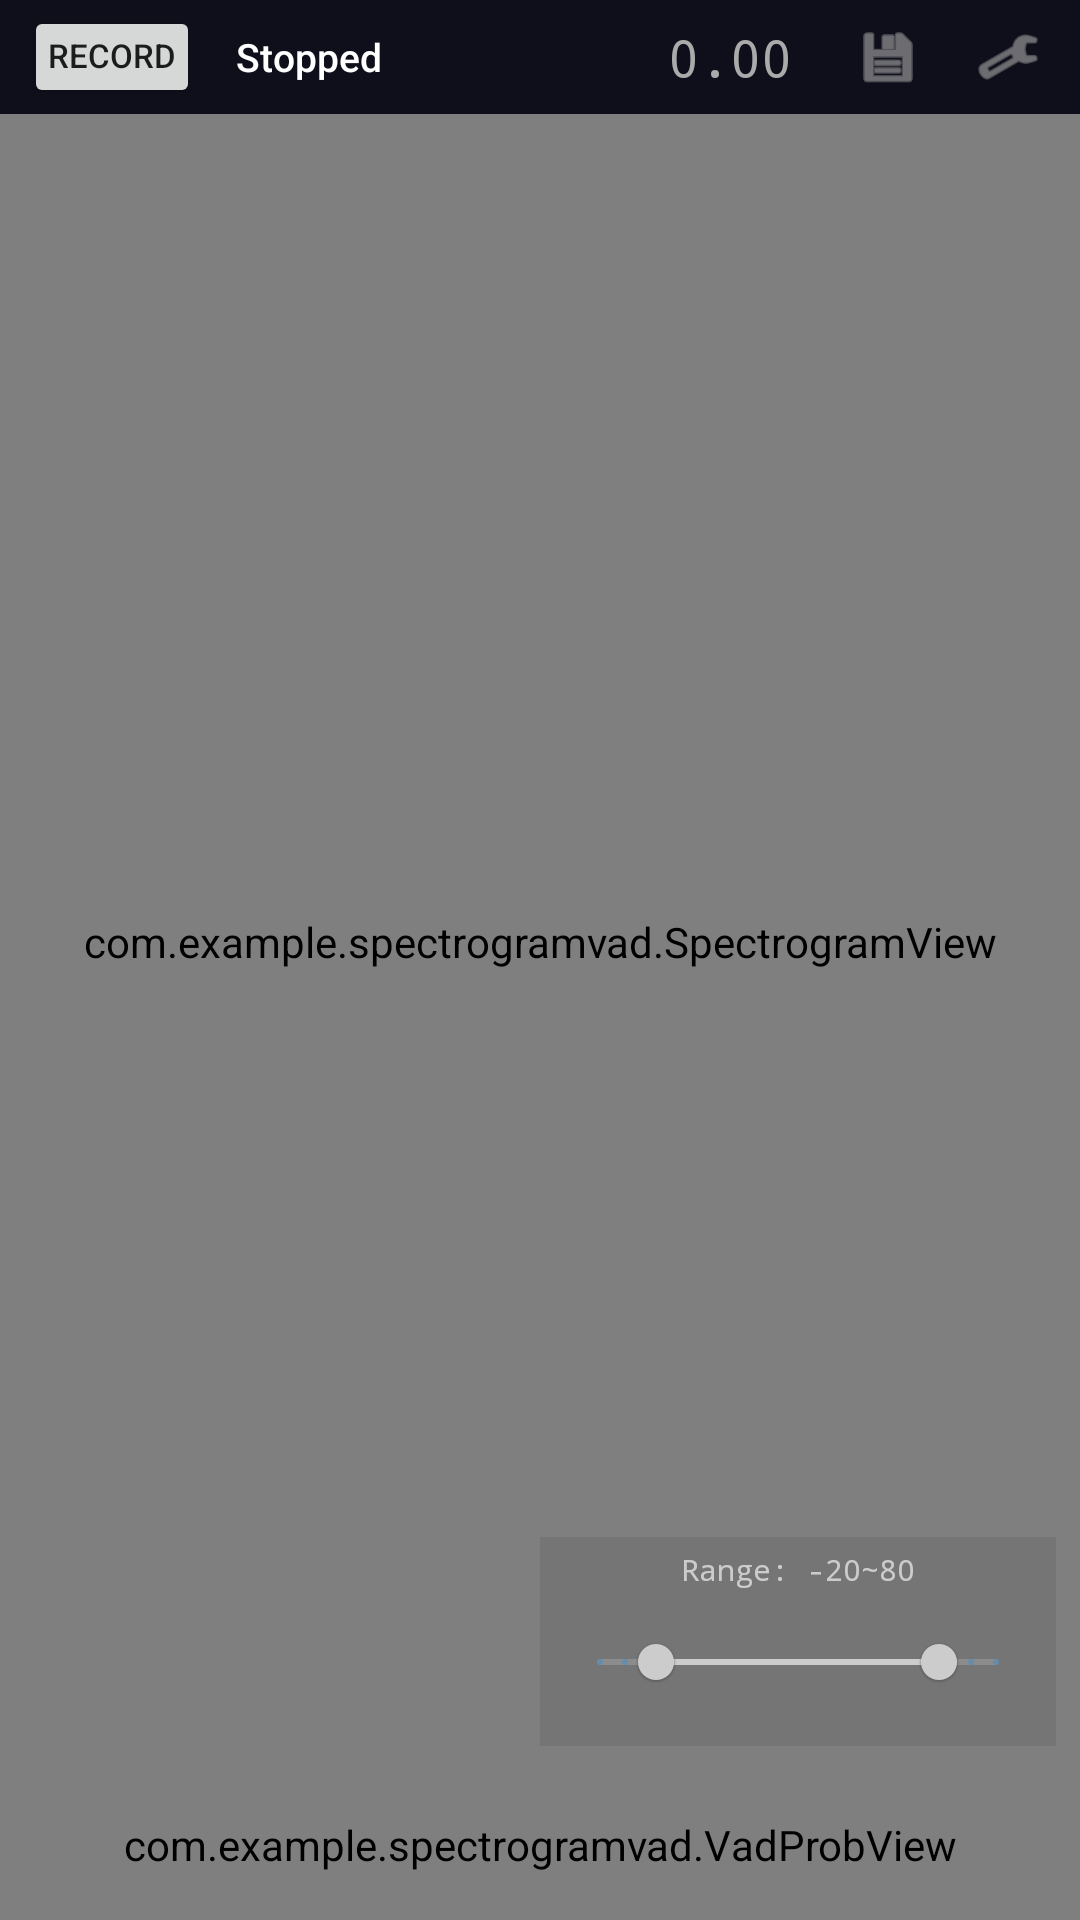

Named icons in this screenshot (1080 × 1920) and their centers, [x,y]:
Settings: [1008,57]
